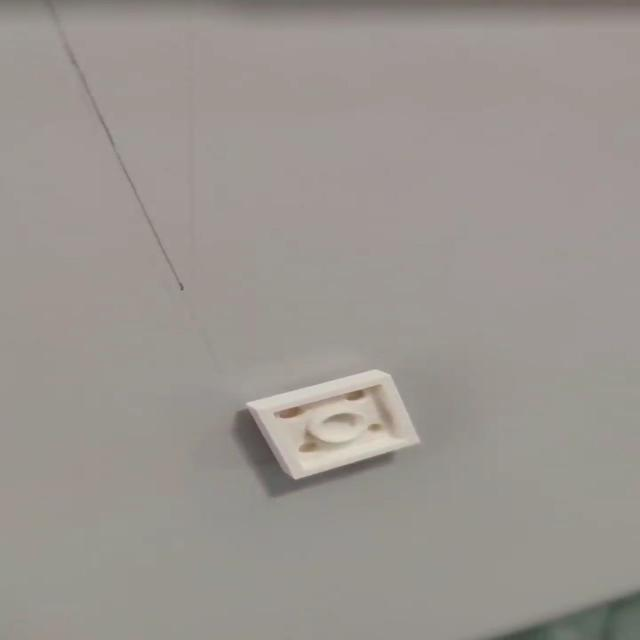C2x2x0: (244, 368, 428, 485)
